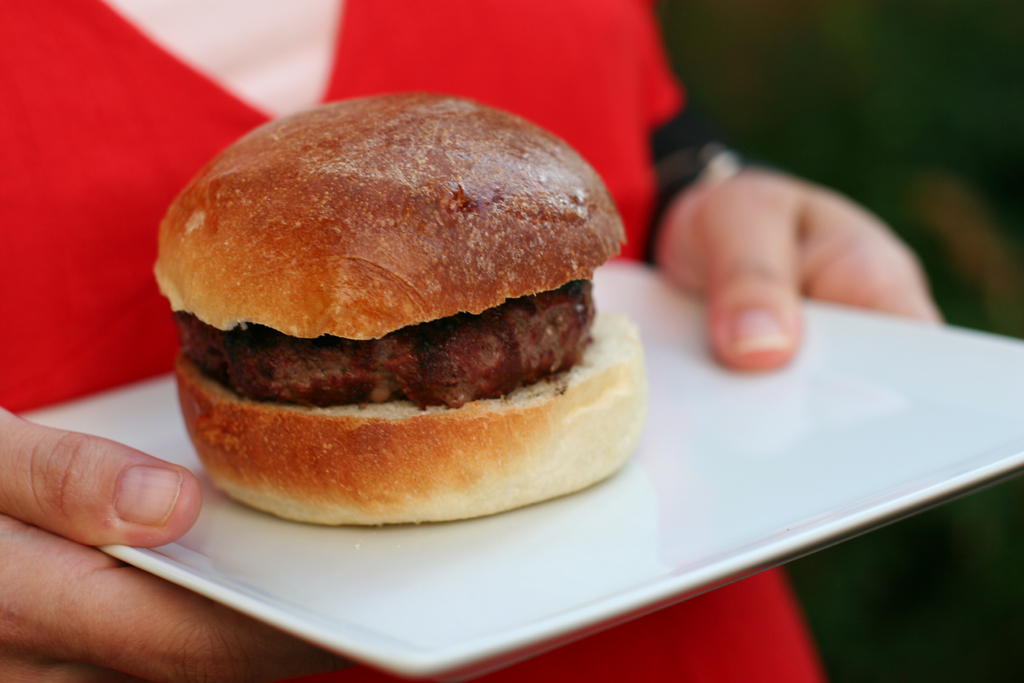Hamburger: (157, 94, 646, 528)
